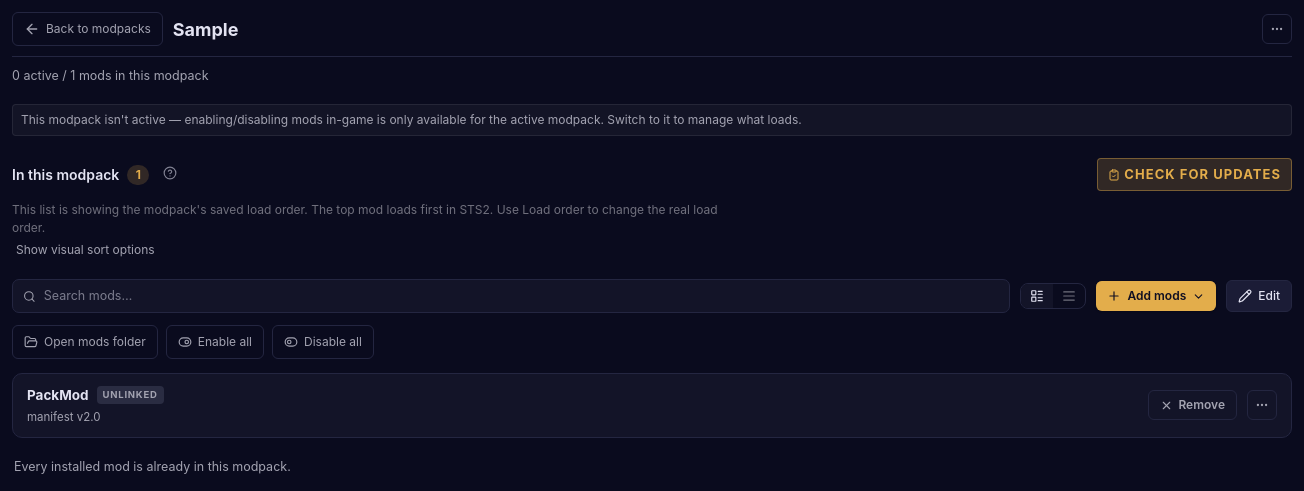
Test: <ModpackDetail> › consolidates the install actions into the "+ Add mods" dropdown
The image size is (1304, 491).
Expected: the heading "Sample" is shown, 173,16 -> 238,42
Expected: the menu item "Quick add URL" is not shown
Click the button "Add mods" at x=1156, y=296, box 1096,281 -> 1216,311
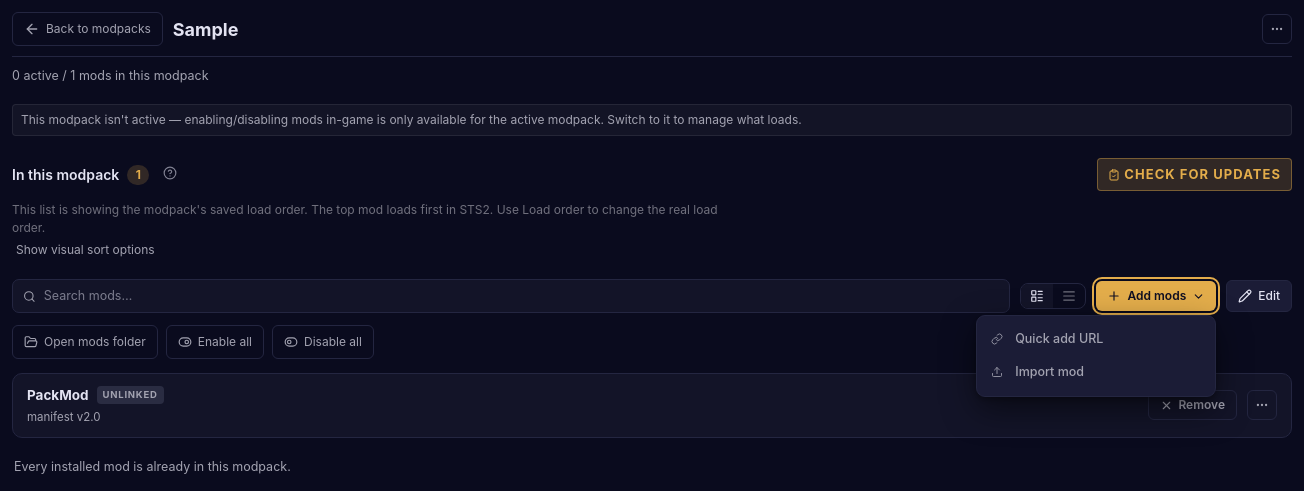
Expected: the menu item "Quick add URL" is shown, 977,323 -> 1215,356
Expected: the menu item "Import mod" is shown, 977,356 -> 1215,389
